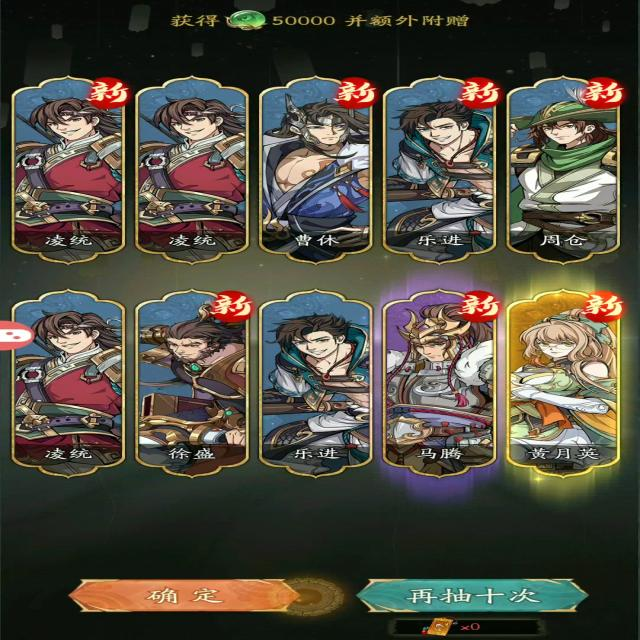operation-enter: (43, 578, 320, 613)
operation-tenRecruit: (346, 571, 608, 622)
